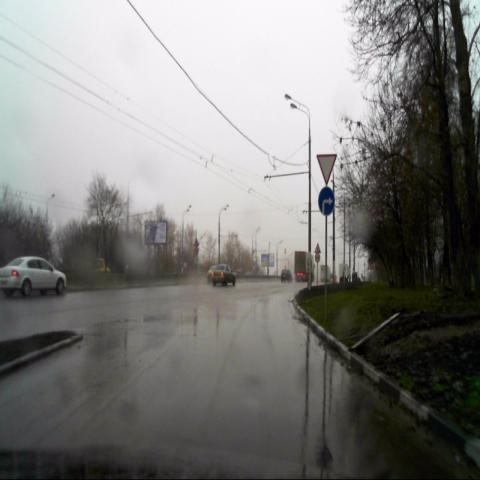4_1_2: (318, 187, 334, 216)
